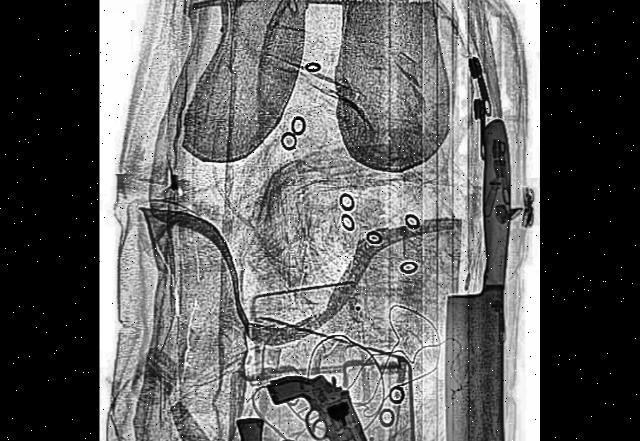Gun: (263, 324, 385, 441), (234, 404, 402, 441)
Knife: (442, 119, 512, 441)
